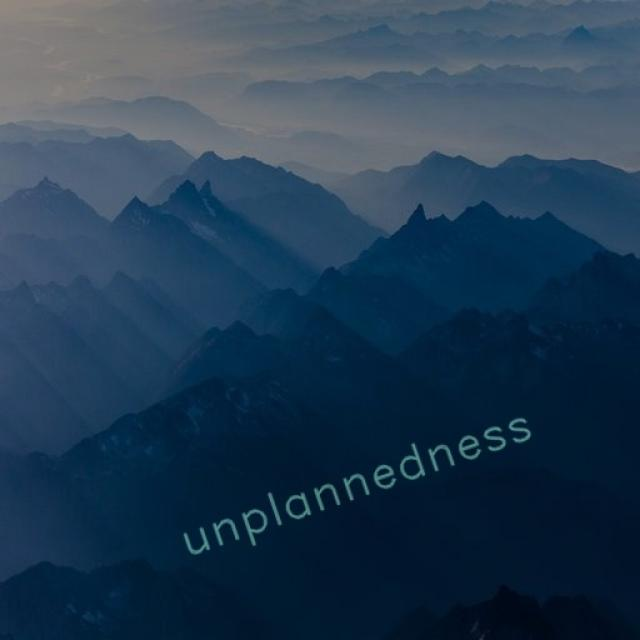watermark: (173, 401, 534, 565)
